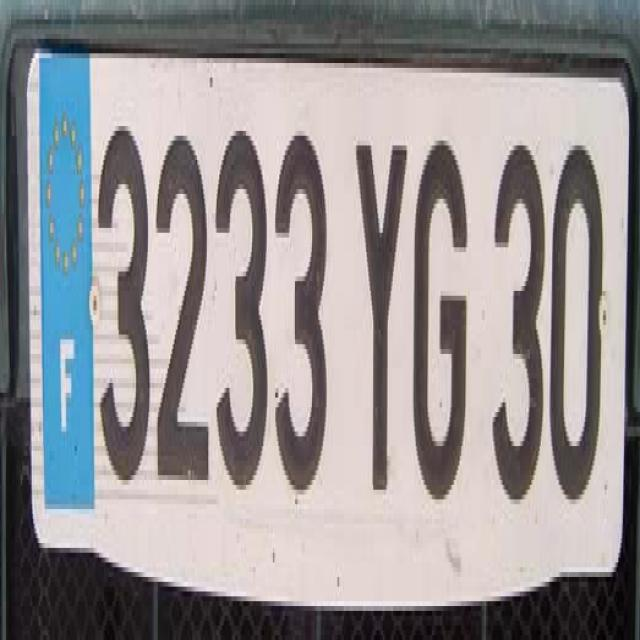EU: (31, 60, 625, 550)
France: (37, 49, 94, 520)
